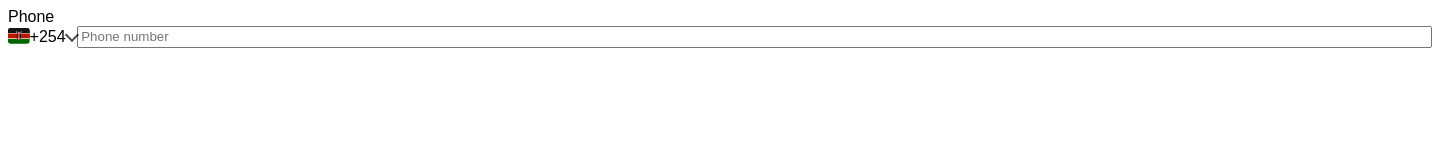
PhoneInput › a pasted international number switches the country on its own
Step 1. Type "+256 772 123 456" into the field labelled "Phone" → coordinates (755, 37), box x1=77 y1=26 x2=1432 y2=48
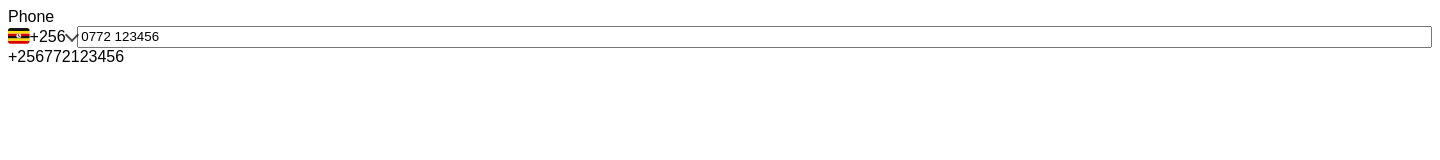
Expected: the button named "country code" shows "🇺🇬", x1=8 y1=26 x2=77 y2=48
Expected: the field labelled "Phone" holds "0772 123456"
Step 2. Replace the text in the field labelled "Phone" with "0044 20 7123 4567" → coordinates (755, 37), box x1=77 y1=26 x2=1432 y2=48
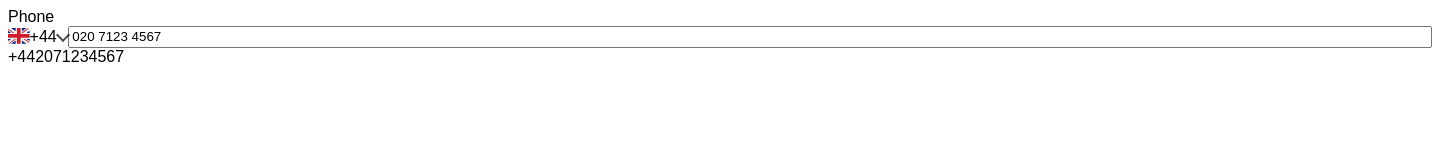
Expected: the button named "country code" shows "+44", x1=8 y1=26 x2=68 y2=48
